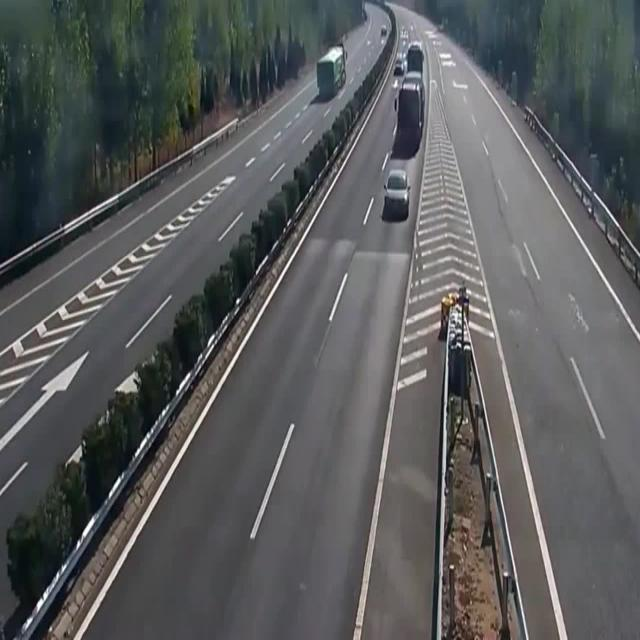point: (351, 0, 409, 72)
